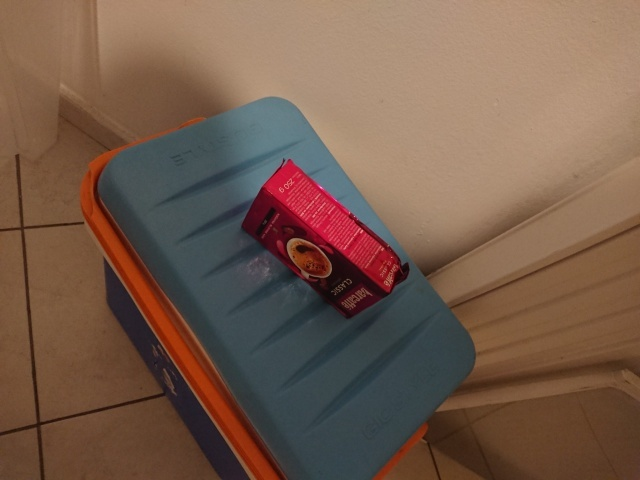Barcaffe Classic Original 225g: (239, 155, 412, 322)
